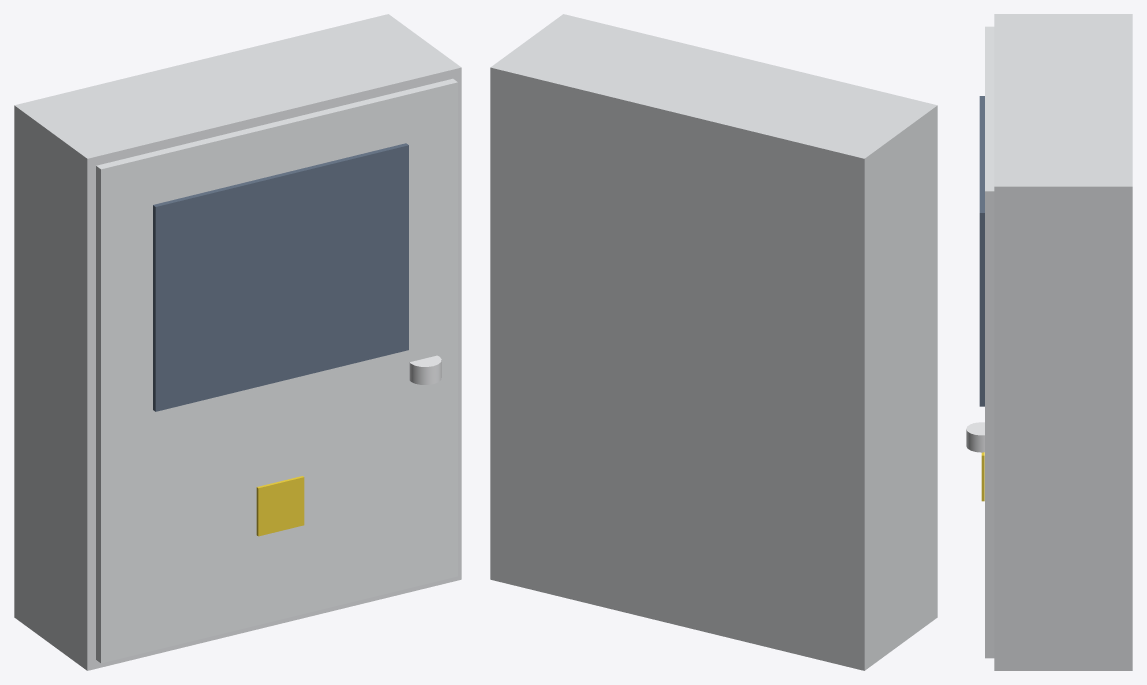
Rendered from panel_box.glb.
The picture shows the model from 3 angles, left to right: view 1: azimuth 30°, elevation 25°; view 2: azimuth 150°, elevation 25°; view 3: azimuth 270°, elevation 25°; orthographic projection. The views are drawn at different scales.
Size of the model in its own units: 0.65 by 0.85 by 0.265.
